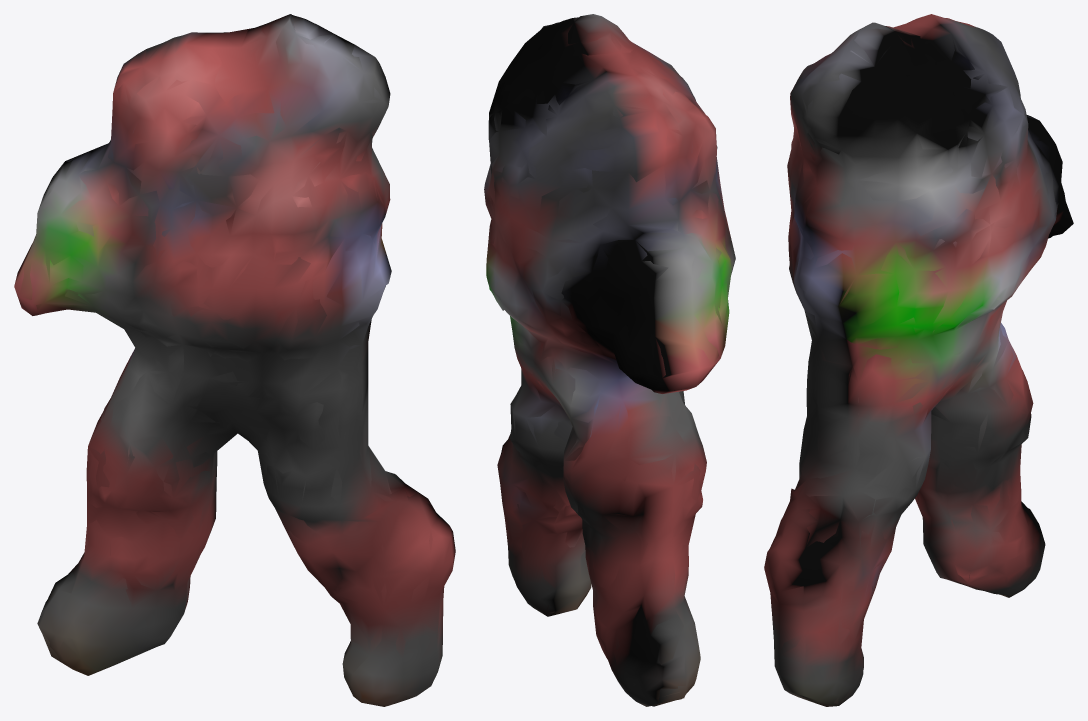
The model's file is desolator.glb.
The picture shows the model from 3 angles, left to right: view 1: azimuth 30°, elevation 25°; view 2: azimuth 150°, elevation 25°; view 3: azimuth 270°, elevation 25°; orthographic projection. The views are drawn at different scales.
Parts seen in each view (by area): view 1: desolator; view 2: desolator; view 3: desolator.
Part boxes in pixels (bbox=[...]): desolator: bbox=[14, 14, 455, 706]; desolator: bbox=[484, 14, 735, 706]; desolator: bbox=[764, 14, 1073, 706].
Size of the model in its own units: 1.12 by 2.22 by 0.9637.
